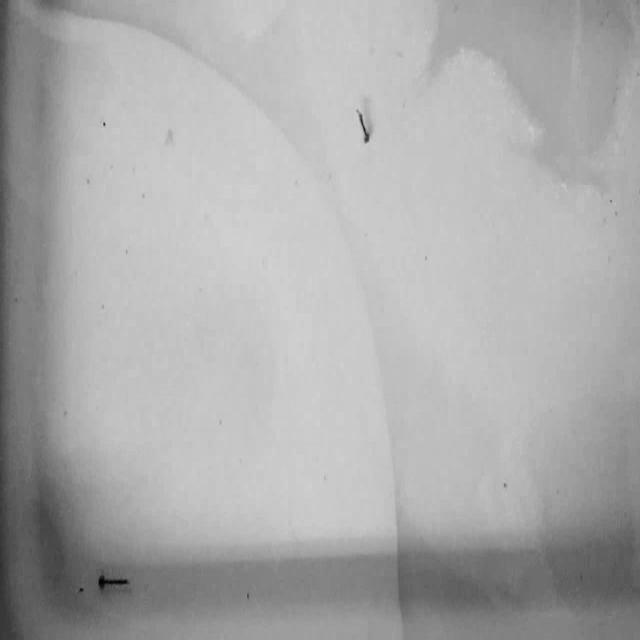larvas: (356, 108, 369, 144)
